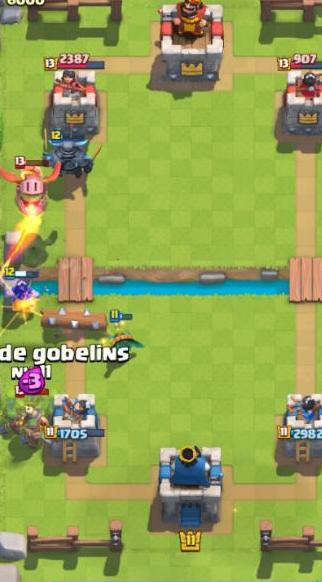enemy_inferno_dragon: (0, 157, 62, 225)
enemy_log: (38, 290, 111, 344)
player_dart_goblin: (106, 310, 149, 350)
player_electro_wizard: (0, 264, 46, 318)
player_pekka: (36, 125, 106, 182)
